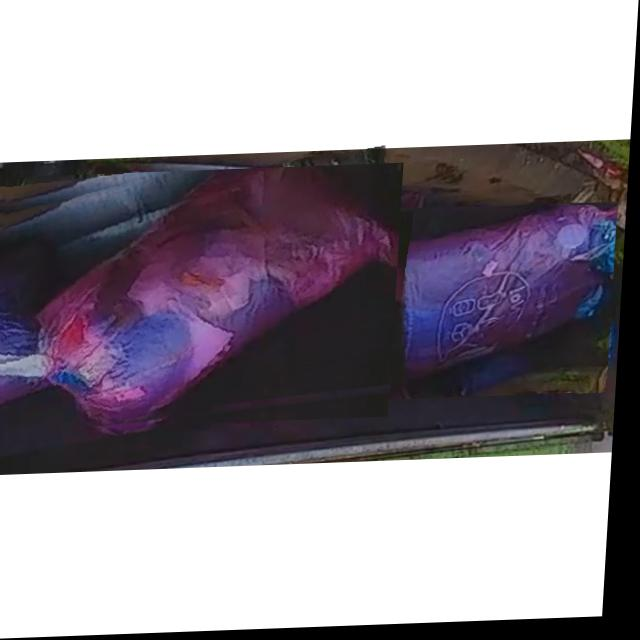other_trashbag: (0, 169, 402, 427), (328, 209, 620, 401)
